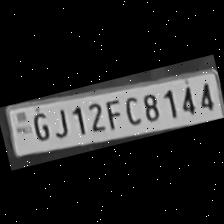1: (156, 84, 181, 120), (64, 101, 88, 137)
2: (80, 97, 107, 134)
4: (190, 76, 215, 113), (172, 81, 197, 117)
8: (136, 87, 162, 124)
C: (117, 92, 143, 128)
F: (100, 96, 124, 130)
G: (24, 107, 52, 144)
J: (46, 104, 72, 140)
